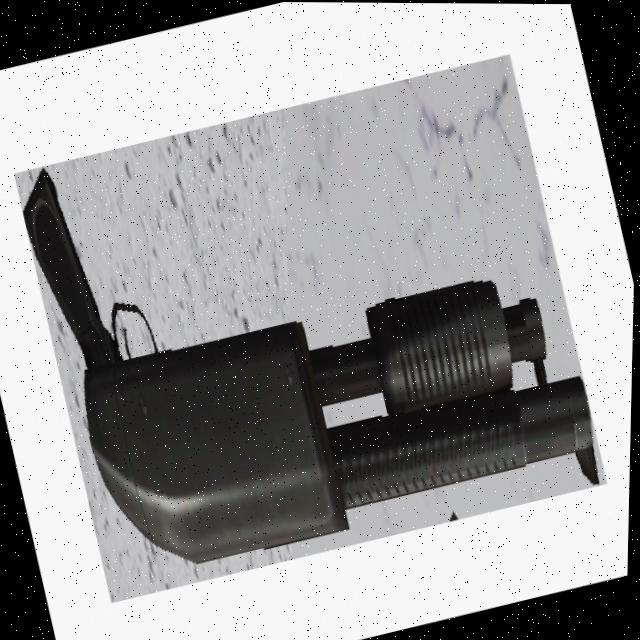firearm: (4, 47, 618, 612)
